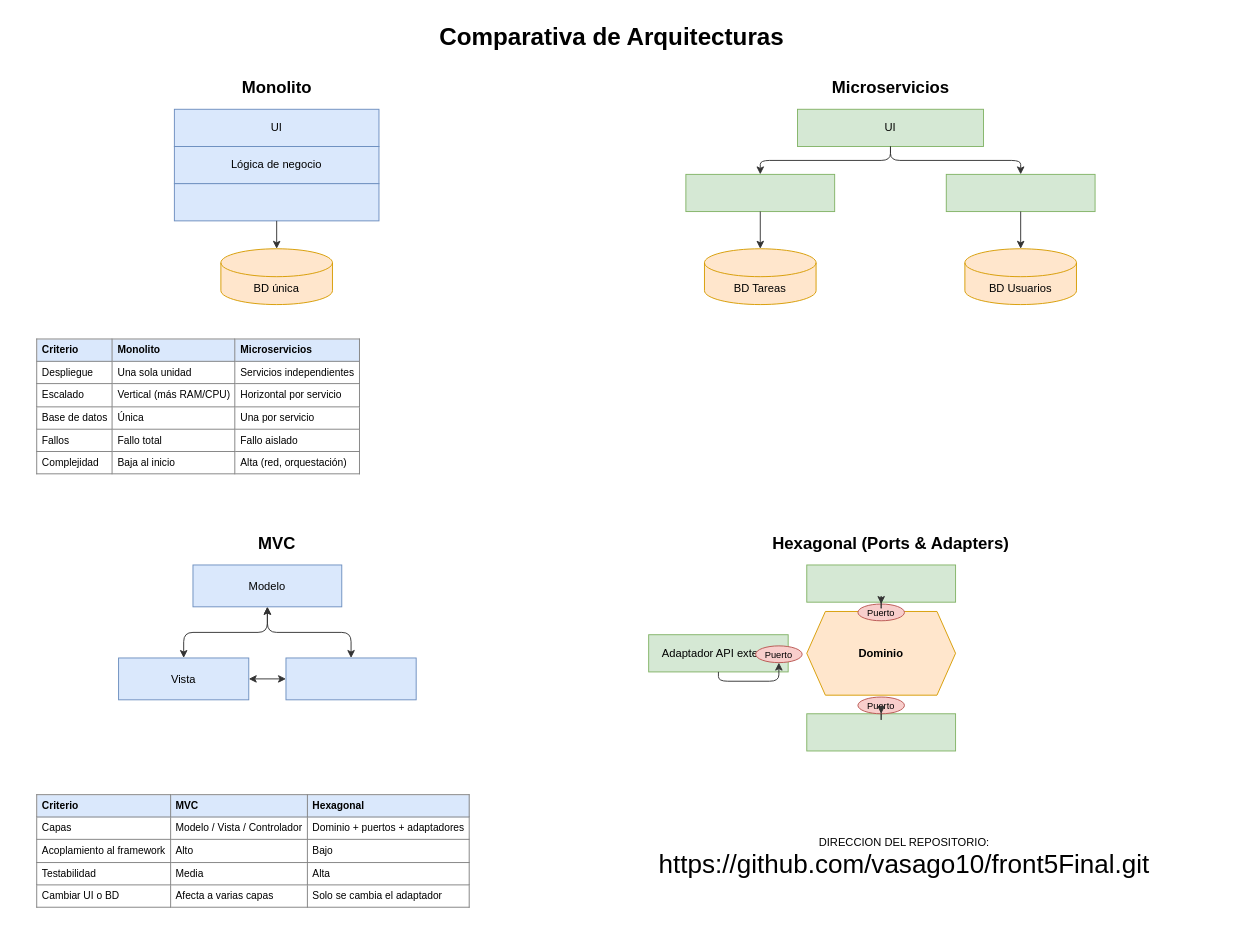
The diagram is 1241 pixels wide and 943 high, and some of its shapes have lost their labels. Here are the shapes that lost their labels. From the top down, the centre of each, then its label:
At (276,202): "Acceso a datos".
At (760,192): "Servicio Tareas".
At (1020,192): "Servicio Usuarios".
At (881,583): "Adaptador UI (React)".
At (350,678): "Controlador".
At (881,732): "Adaptador Repositorio".
